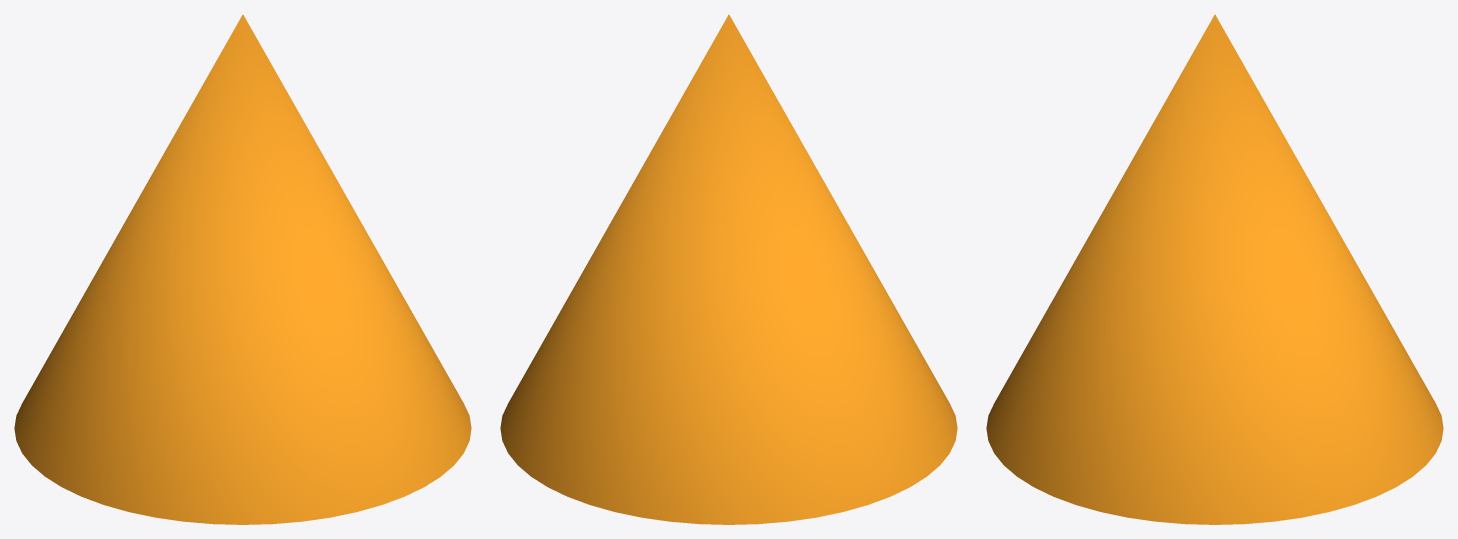
3 views of the same model, side by side, from view 1: azimuth 30°, elevation 25°; view 2: azimuth 150°, elevation 25°; view 3: azimuth 270°, elevation 25° (orthographic).
Visible parts, largest first — view 1: SM_Primitive_Cone_05; view 2: SM_Primitive_Cone_05; view 3: SM_Primitive_Cone_05.
Boxes of the visible parts, x1,y1,x2,y2 form: SM_Primitive_Cone_05: (14,14,471,524); SM_Primitive_Cone_05: (500,14,957,524); SM_Primitive_Cone_05: (986,14,1443,524).
Size of the model in its own units: 100 by 100 by 100.
